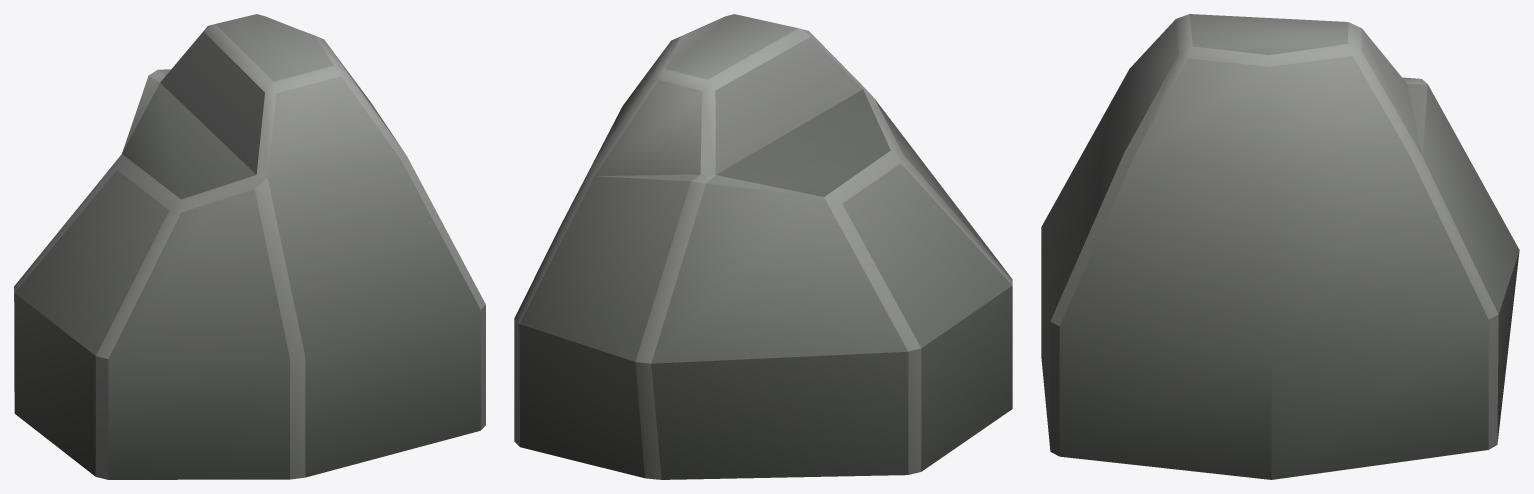
Rendered from Rock-1-3.fbx.
3 renders of one model, left to right at view 1: azimuth 30°, elevation 25°; view 2: azimuth 150°, elevation 25°; view 3: azimuth 270°, elevation 25°, orthographic. The views are drawn at different scales.
Visible parts, largest first — view 1: Rock-1-3; view 2: Rock-1-3; view 3: Rock-1-3.
Boxes of the visible parts, x1=… form: Rock-1-3: x1=14, y1=14, x2=485, y2=479; Rock-1-3: x1=514, y1=14, x2=1012, y2=479; Rock-1-3: x1=1041, y1=14, x2=1519, y2=479.
Bounding box in the file's own units: 218 × 180 × 215.
